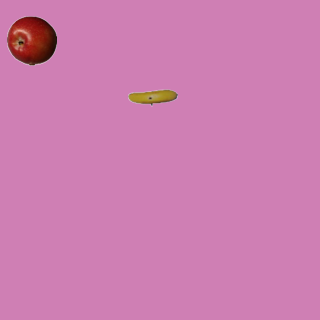Apple Braeburn: (6, 15, 56, 65)
Banana: (127, 72, 177, 122)
